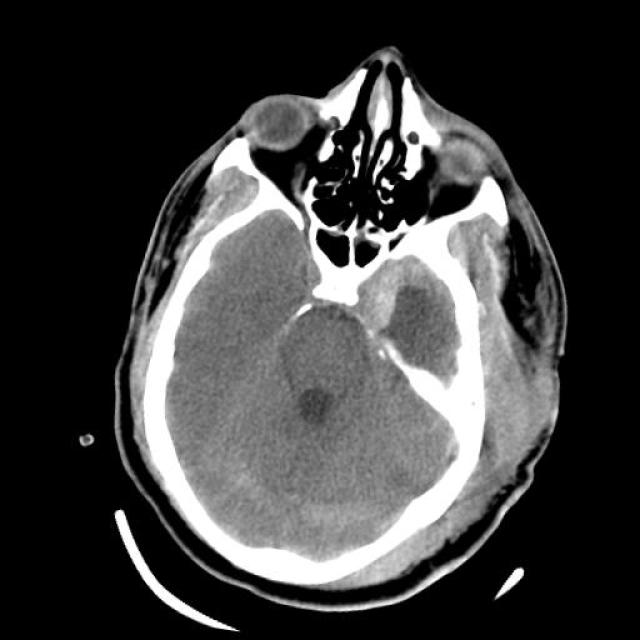Subarachnoid: (409, 403, 479, 472)
Subdural: (330, 240, 475, 350)
